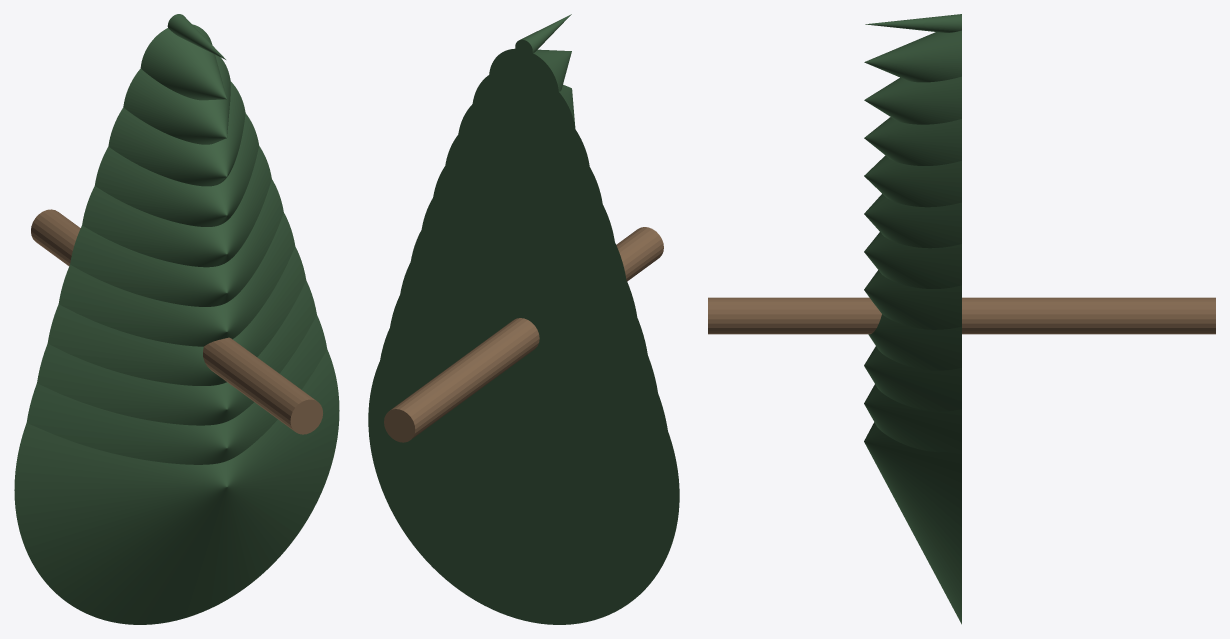
File: pine-tree-3000.glb
3 views of the same model, side by side, from view 1: azimuth 30°, elevation 25°; view 2: azimuth 150°, elevation 25°; view 3: azimuth 270°, elevation 25° (orthographic). The views are drawn at different scales.
Parts seen in each view (by area): view 1: foliage, trunk; view 2: foliage, trunk; view 3: foliage, trunk.
Part boxes in pixels (bbox=[...]): foliage: bbox=[14, 14, 339, 624]; trunk: bbox=[31, 209, 322, 434]; foliage: bbox=[368, 14, 679, 624]; trunk: bbox=[384, 227, 663, 442]; foliage: bbox=[864, 14, 961, 624]; trunk: bbox=[708, 297, 1215, 334].
Bounding box in the file's own units: 6.36 × 11.33 × 8.8.
